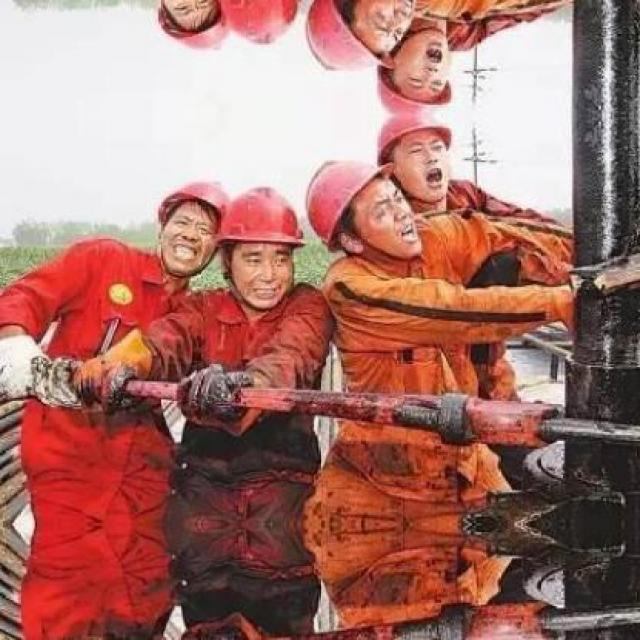Reflective-Jacket: (325, 193, 520, 492), (3, 254, 200, 534), (172, 284, 332, 500)
Safety-Helmet: (297, 151, 398, 255), (211, 180, 311, 258), (138, 165, 235, 231), (366, 111, 465, 156)
